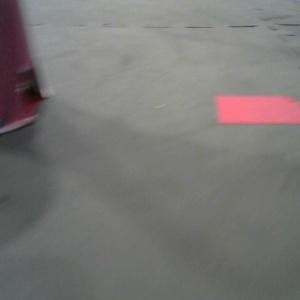middle: (1, 1, 50, 141)
